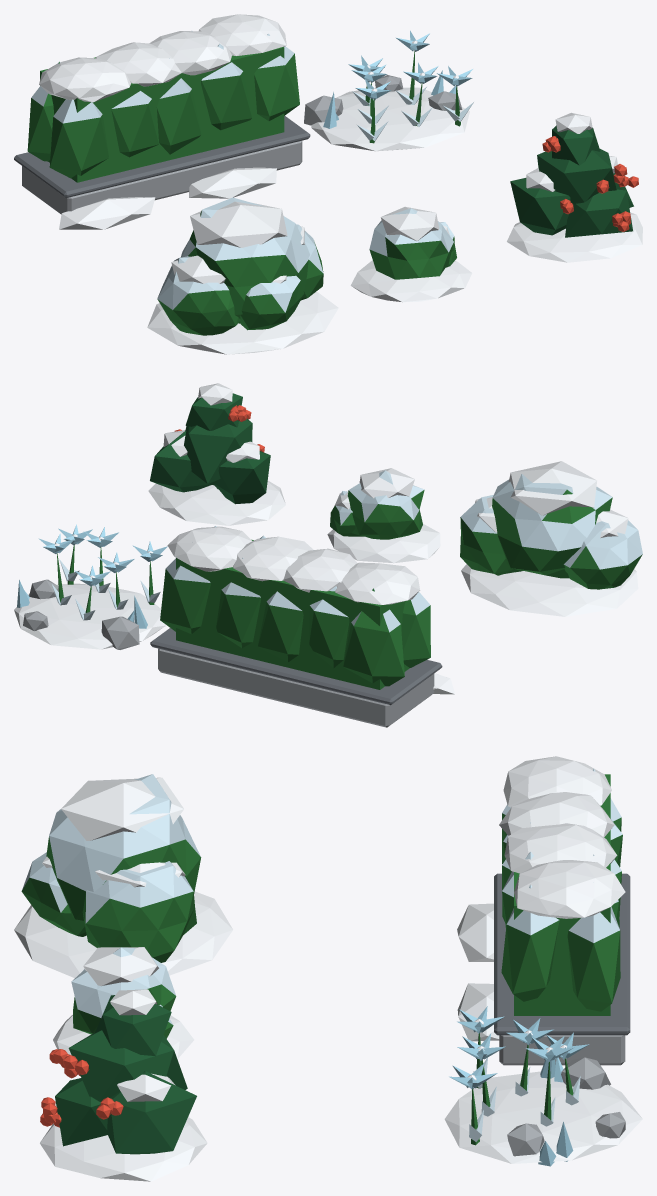
The model's file is frosted-shrub-set.glb.
The picture shows the model from 3 angles, top to bottom: view 1: azimuth 30°, elevation 25°; view 2: azimuth 150°, elevation 25°; view 3: azimuth 270°, elevation 25°; orthographic projection. The views are drawn at different scales.
Visible parts, largest first — view 1: Hedge_Snowy, Bush_Frosted_Large, Bush_Holly, Flowers_Frozen, Bush_Frosted_Small; view 2: Hedge_Snowy, Bush_Frosted_Large, Bush_Holly, Flowers_Frozen, Bush_Frosted_Small; view 3: Hedge_Snowy, Bush_Frosted_Large, Bush_Holly, Flowers_Frozen, Bush_Frosted_Small.
Part boxes in pixels (box(x1,y1,x2,y2)): Hedge_Snowy: box(14, 14, 310, 229); Bush_Frosted_Large: box(147, 197, 338, 354); Bush_Holly: box(507, 112, 642, 262); Flowers_Frozen: box(304, 30, 473, 151); Bush_Frosted_Small: box(350, 206, 472, 302); Hedge_Snowy: box(150, 526, 454, 727); Bush_Frosted_Large: box(460, 461, 642, 616); Bush_Holly: box(148, 383, 285, 525); Flowers_Frozen: box(14, 524, 167, 649); Bush_Frosted_Small: box(327, 468, 440, 563); Hedge_Snowy: box(457, 756, 630, 1065); Bush_Frosted_Large: box(14, 774, 232, 977); Bush_Holly: box(40, 989, 207, 1181); Flowers_Frozen: box(444, 1006, 642, 1166); Bush_Frosted_Small: box(53, 947, 194, 1058).
Bounding box in the file's own units: 17.12 × 4.62 × 14.97.
